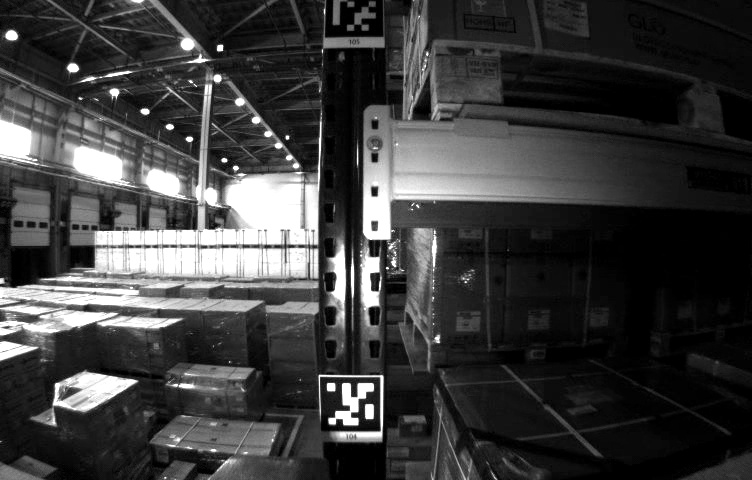True Barcode: (543, 1, 590, 39)
